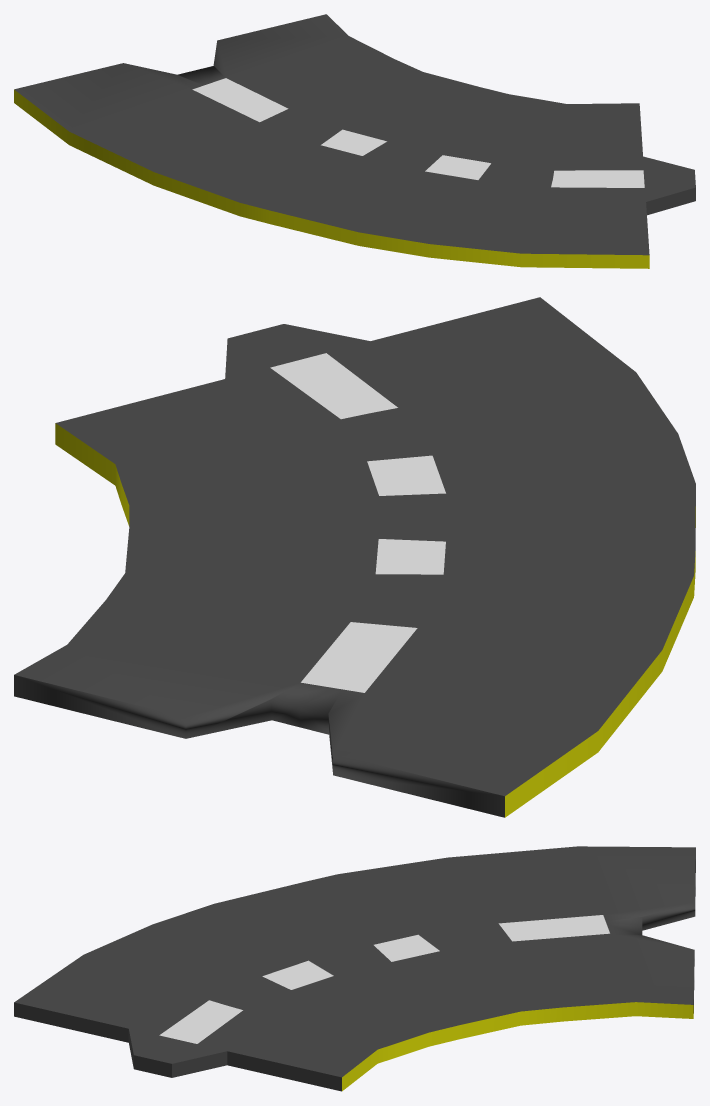
File: LesserAngleLeft.fbx
3 renders of one model, top to bottom at view 1: azimuth 30°, elevation 25°; view 2: azimuth 150°, elevation 25°; view 3: azimuth 270°, elevation 25°, orthographic. The views are drawn at different scales.
Visible parts, largest first — view 1: New_Left_Piece2; view 2: New_Left_Piece2; view 3: New_Left_Piece2.
Boxes of the visible parts, bbox=[...] form: New_Left_Piece2: bbox=[14, 14, 695, 268]; New_Left_Piece2: bbox=[14, 297, 695, 817]; New_Left_Piece2: bbox=[14, 846, 695, 1091].
Size of the model in its own units: 12.5 by 0.357 by 15.59.
